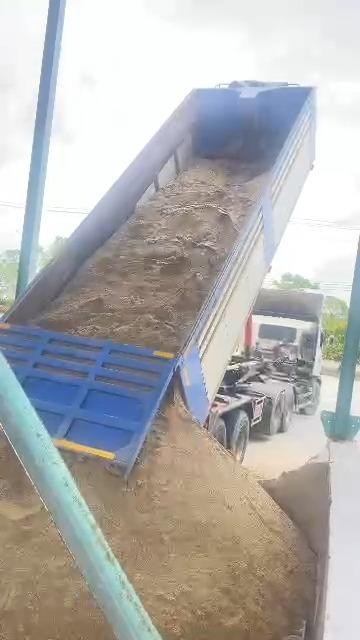sand: (72, 405, 315, 639), (72, 407, 314, 639), (31, 159, 267, 351), (32, 161, 265, 350), (0, 440, 112, 639), (263, 458, 329, 554)
